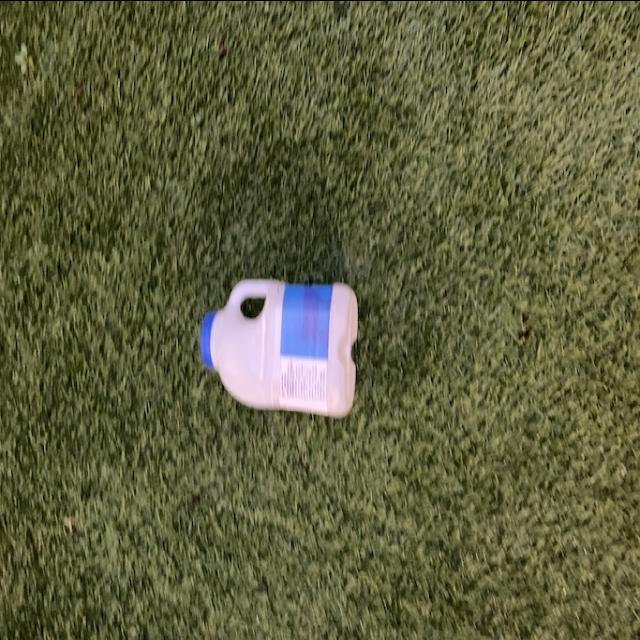HDPEM: (197, 274, 361, 422)
